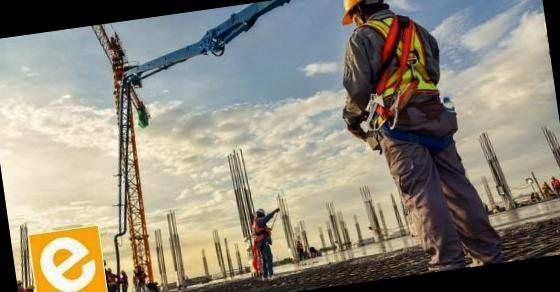helmet: (335, 0, 390, 27)
person: (326, 0, 478, 281), (246, 204, 285, 288)
